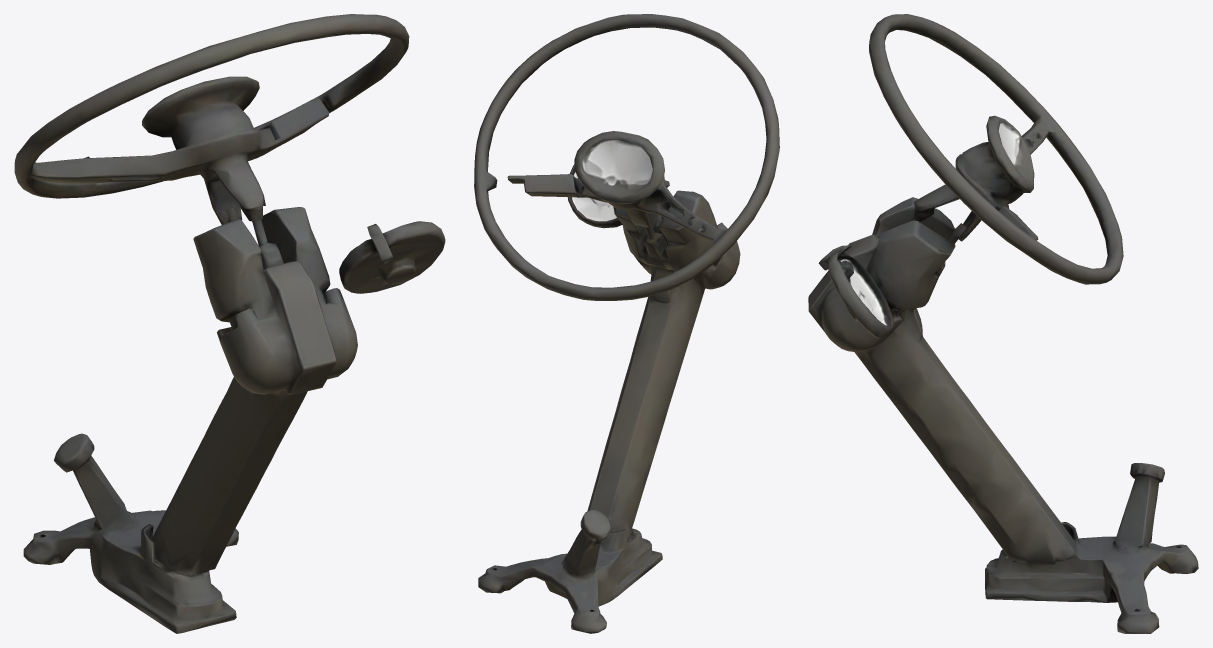
File: bus-wheel.glb
3 renders of one model, left to right at view 1: azimuth 30°, elevation 25°; view 2: azimuth 150°, elevation 25°; view 3: azimuth 270°, elevation 25°, orthographic. The views are drawn at different scales.
Parts seen in each view (by area): view 1: tripo_node_be6f7a00-1094-4a57-8b65-e7a896d1f9ef; view 2: tripo_node_be6f7a00-1094-4a57-8b65-e7a896d1f9ef; view 3: tripo_node_be6f7a00-1094-4a57-8b65-e7a896d1f9ef.
Part boxes in pixels (left/top/right/bottom): tripo_node_be6f7a00-1094-4a57-8b65-e7a896d1f9ef: left=14, top=14, right=445, bottom=633; tripo_node_be6f7a00-1094-4a57-8b65-e7a896d1f9ef: left=474, top=14, right=779, bottom=633; tripo_node_be6f7a00-1094-4a57-8b65-e7a896d1f9ef: left=808, top=14, right=1198, bottom=633.
Bounding box in the file's own units: 0.5954 × 1 × 0.6384.
1 material, 1 textured.
